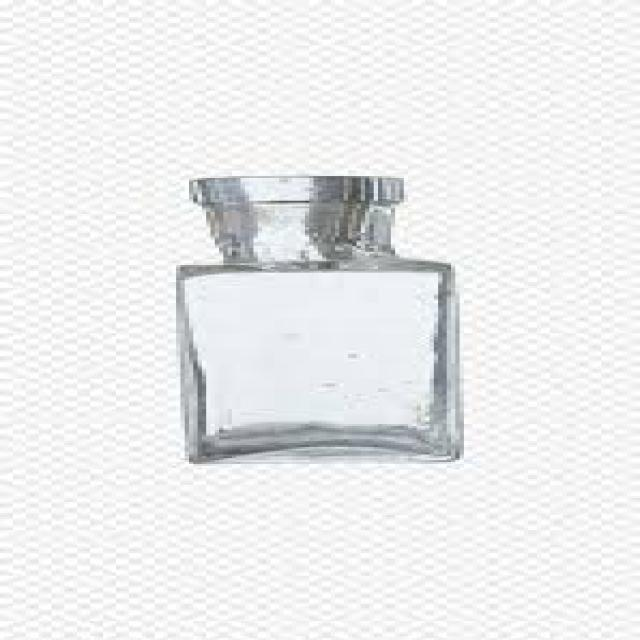glass: (167, 204, 464, 464)
metal: (185, 172, 395, 199)
